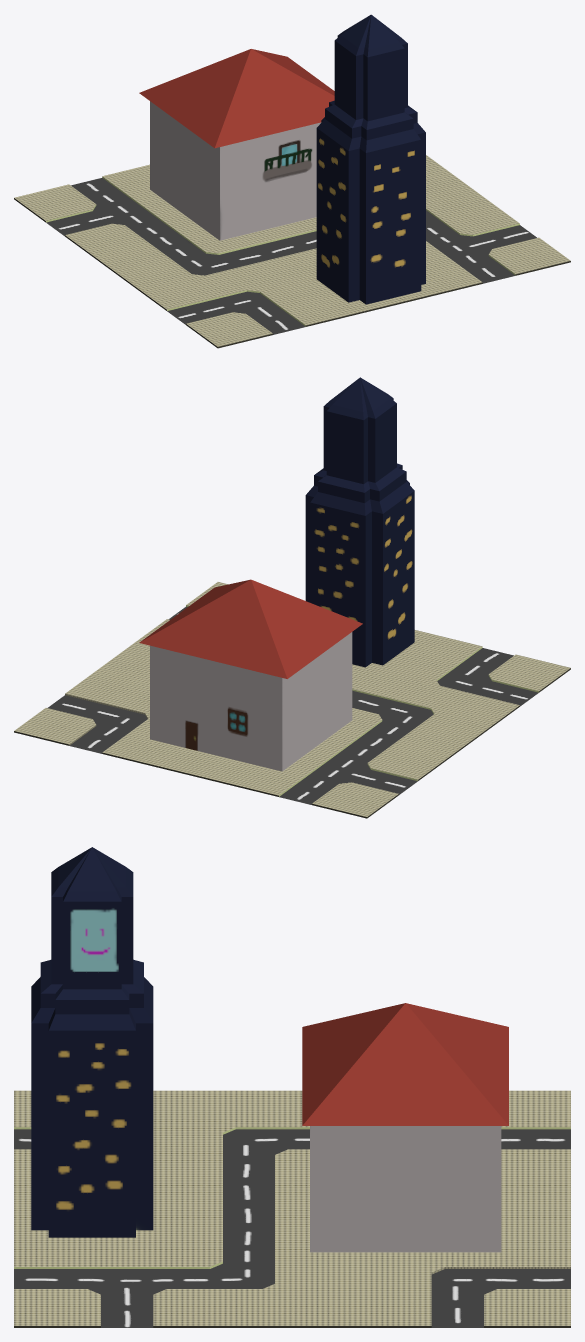
The model's file is tile.glb.
3 renders of one model, top to bottom at view 1: azimuth 30°, elevation 25°; view 2: azimuth 150°, elevation 25°; view 3: azimuth 270°, elevation 25°, orthographic. The views are drawn at different scales.
Parts seen in each view (by area): view 1: Plane; view 2: Plane; view 3: Plane.
Boxes of the visible parts, left/top/right/bottom form: Plane: left=14, top=14, right=570, bottom=348; Plane: left=14, top=377, right=570, bottom=818; Plane: left=14, top=847, right=570, bottom=1327.
Bounding box in the file's own units: 100 × 72.69 × 100.
1 material, 1 textured.
